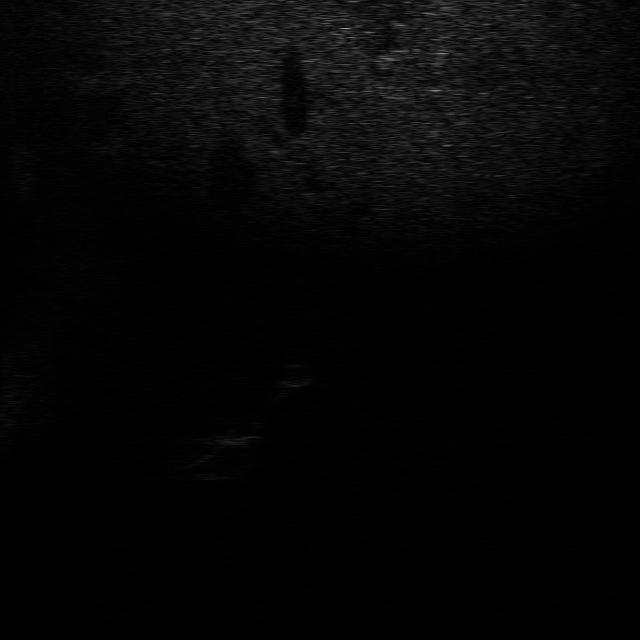ball: (268, 361, 318, 391)
square cage: (170, 429, 264, 485)
